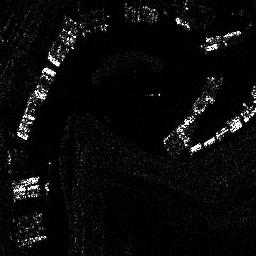ship: (204, 29, 242, 43)
